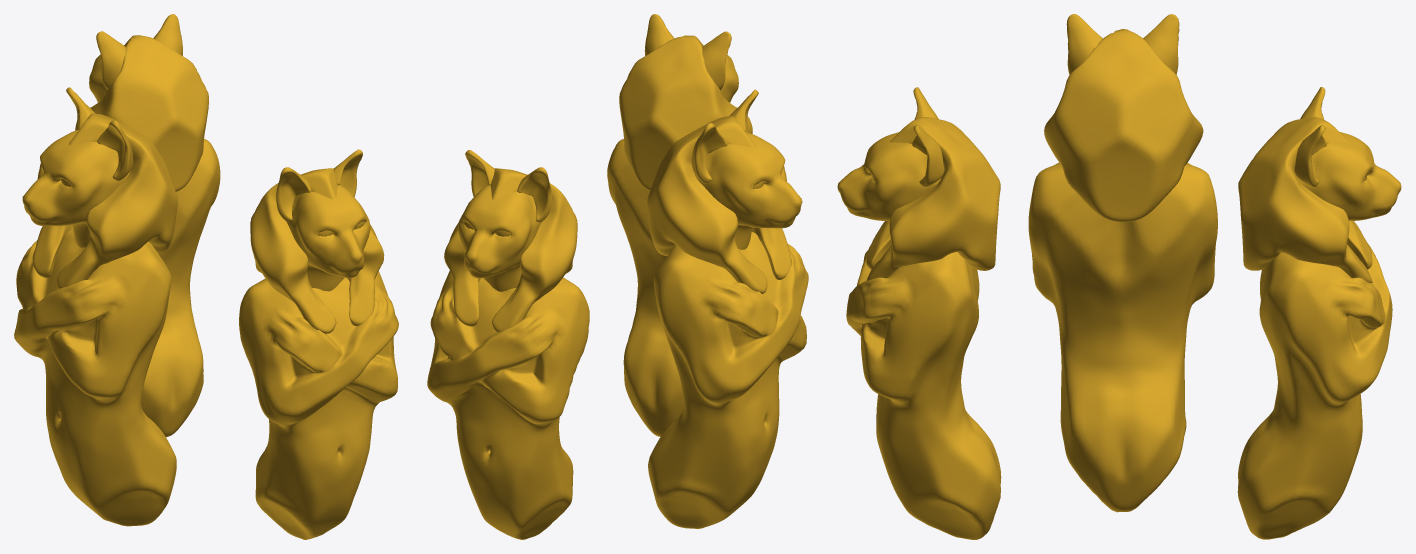
The model's file is three_cats.fbx.
3 renders of one model, left to right at view 1: azimuth 30°, elevation 25°; view 2: azimuth 150°, elevation 25°; view 3: azimuth 270°, elevation 25°, orthographic. The views are drawn at different scales.
Parts seen in each view (by area): view 1: bar_thing_export:bar_thing_export:Group8; view 2: bar_thing_export:bar_thing_export:Group8; view 3: bar_thing_export:bar_thing_export:Group8.
Part boxes in pixels (box(x1,y1,x2,y2)): bar_thing_export:bar_thing_export:Group8: box(14, 14, 398, 539); bar_thing_export:bar_thing_export:Group8: box(427, 14, 808, 539); bar_thing_export:bar_thing_export:Group8: box(837, 14, 1401, 539).
Bounding box in the file's own units: 3.29 × 4.97 × 5.39.
